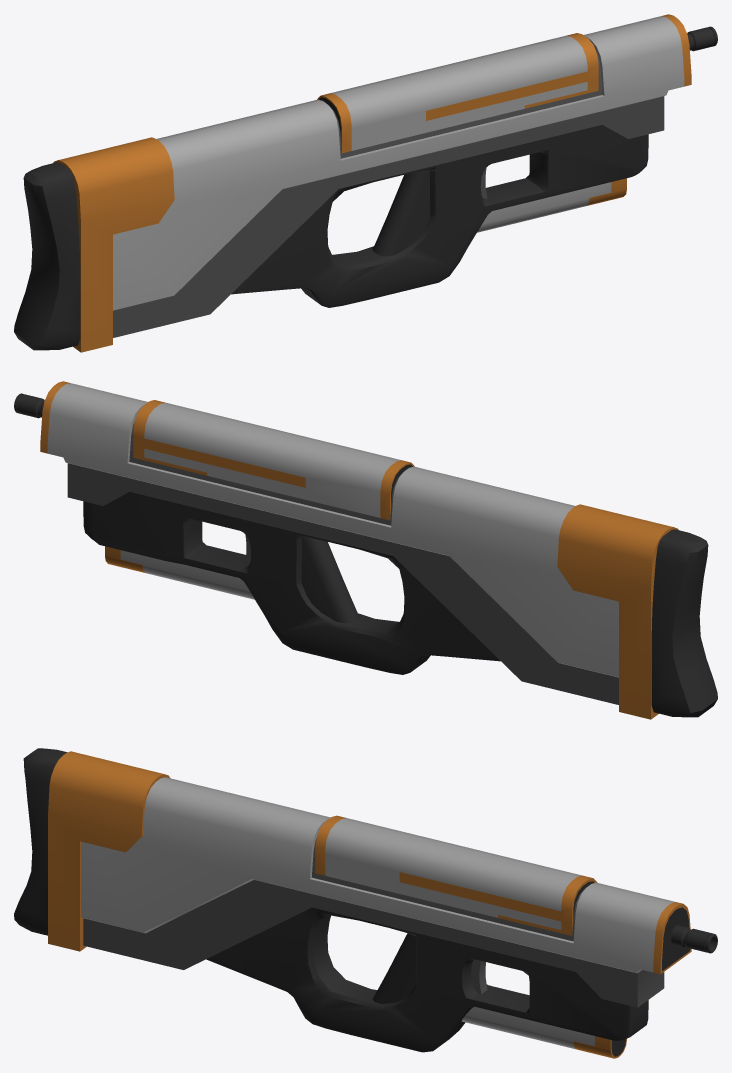
The model's file is quaternius-modular-sci-fi-guns-ar-6.glb.
3 renders of one model, top to bottom at view 1: azimuth 30°, elevation 25°; view 2: azimuth 150°, elevation 25°; view 3: azimuth 330°, elevation 25°, orthographic.
Visible parts, largest first — view 1: AR_6; view 2: AR_6; view 3: AR_6.
Part boxes in pixels (x1,y1,x2,y2): AR_6: (14,14,717,352); AR_6: (14,381,717,719); AR_6: (14,748,717,1058).
Size of the model in its own units: 1.76 by 0.4944 by 0.1456.
